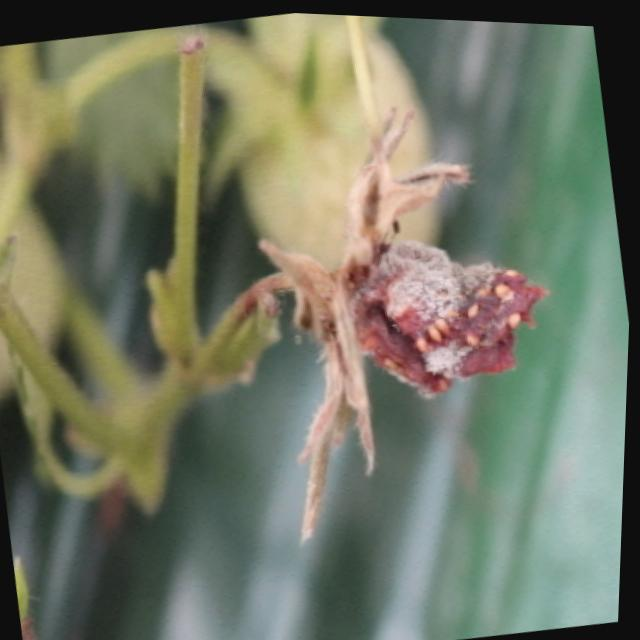Gray Mold: (262, 106, 554, 535)
